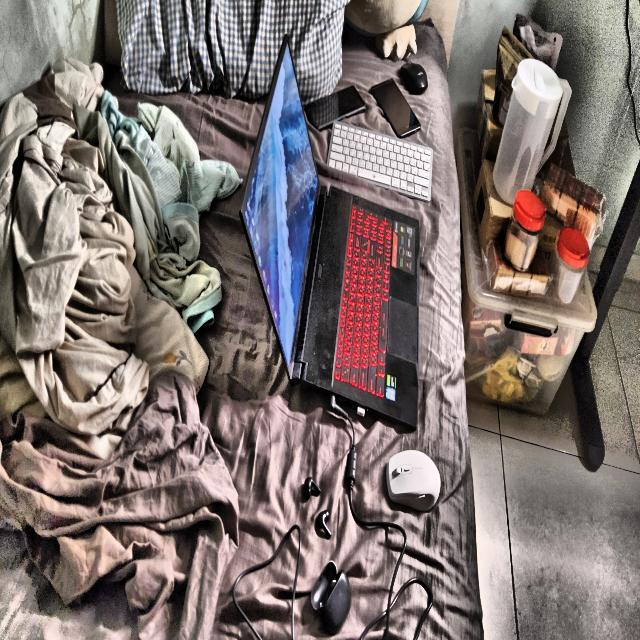laptop: (240, 37, 420, 428)
